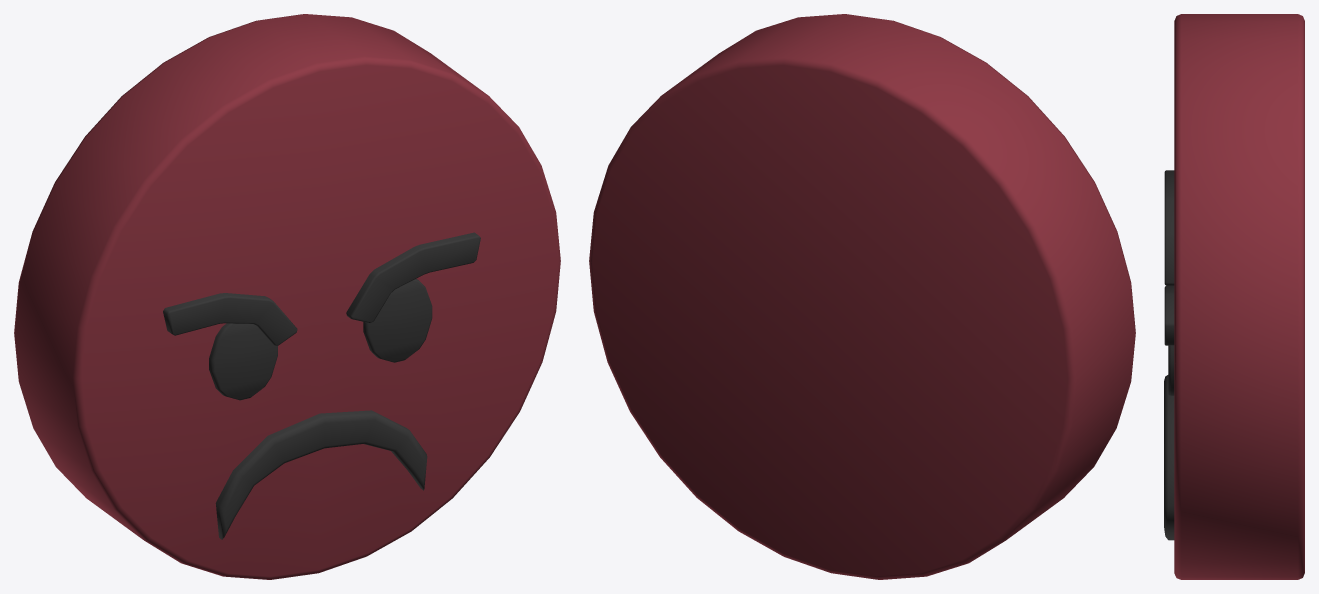
The model's file is anger_emoji_old.glb.
The picture shows the model from 3 angles, left to right: view 1: azimuth 30°, elevation 25°; view 2: azimuth 150°, elevation 25°; view 3: azimuth 270°, elevation 25°; orthographic projection.
Visible parts, largest first — view 1: Cylinder.201; view 2: Cylinder.201; view 3: Cylinder.201.
Part boxes in pixels (x1,y1,x2,y2): Cylinder.201: (14,14,560,579); Cylinder.201: (589,14,1135,579); Cylinder.201: (1164,14,1304,579).
Size of the model in its own units: 0.8686 by 0.8686 by 0.216.
